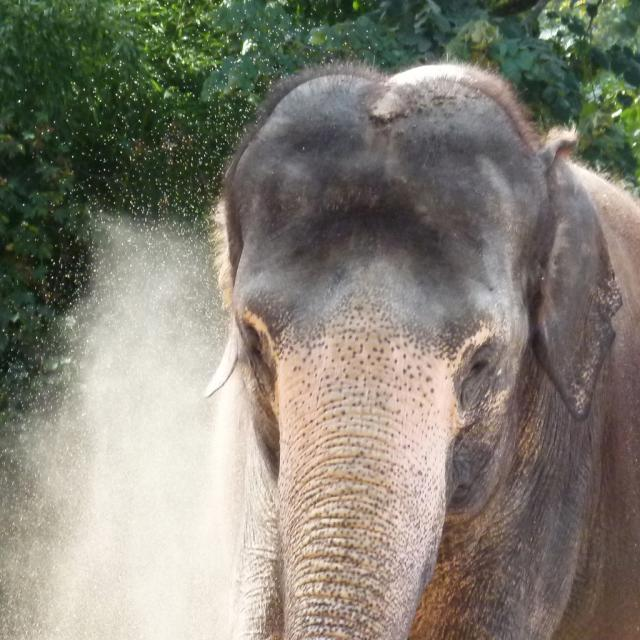Elephant: (200, 61, 640, 640)
